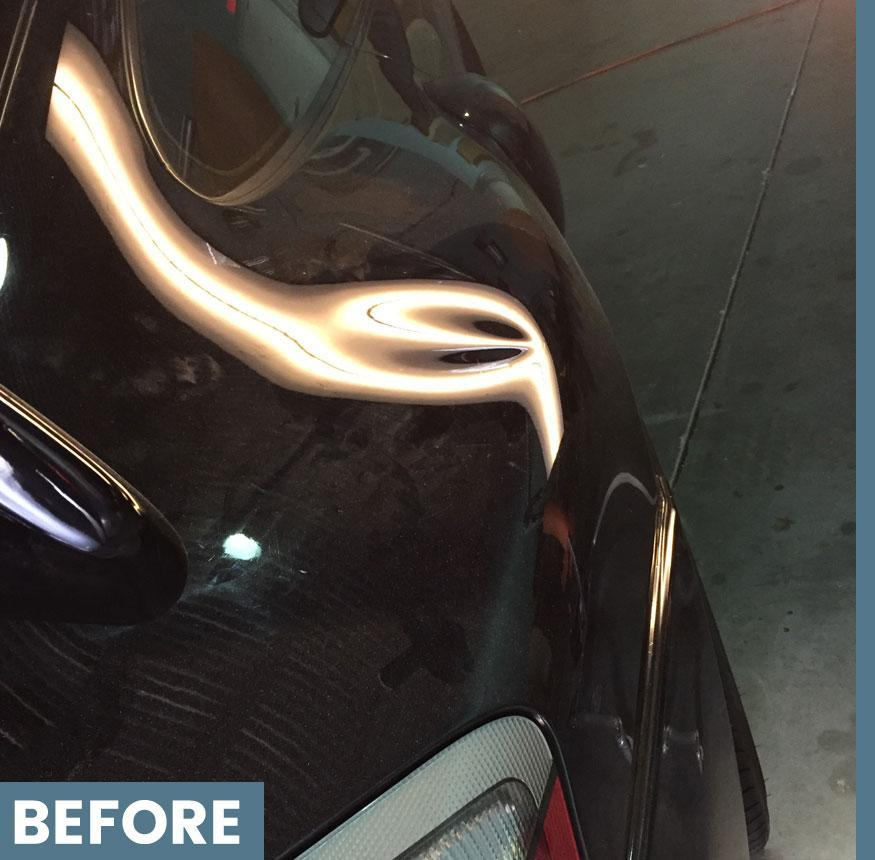dent: (340, 273, 557, 437)
